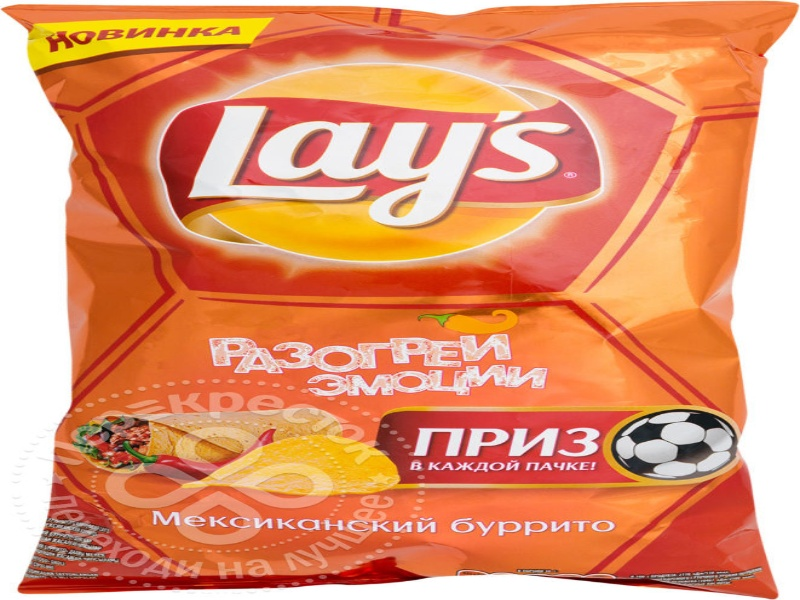chips: (2, 2, 781, 600)
